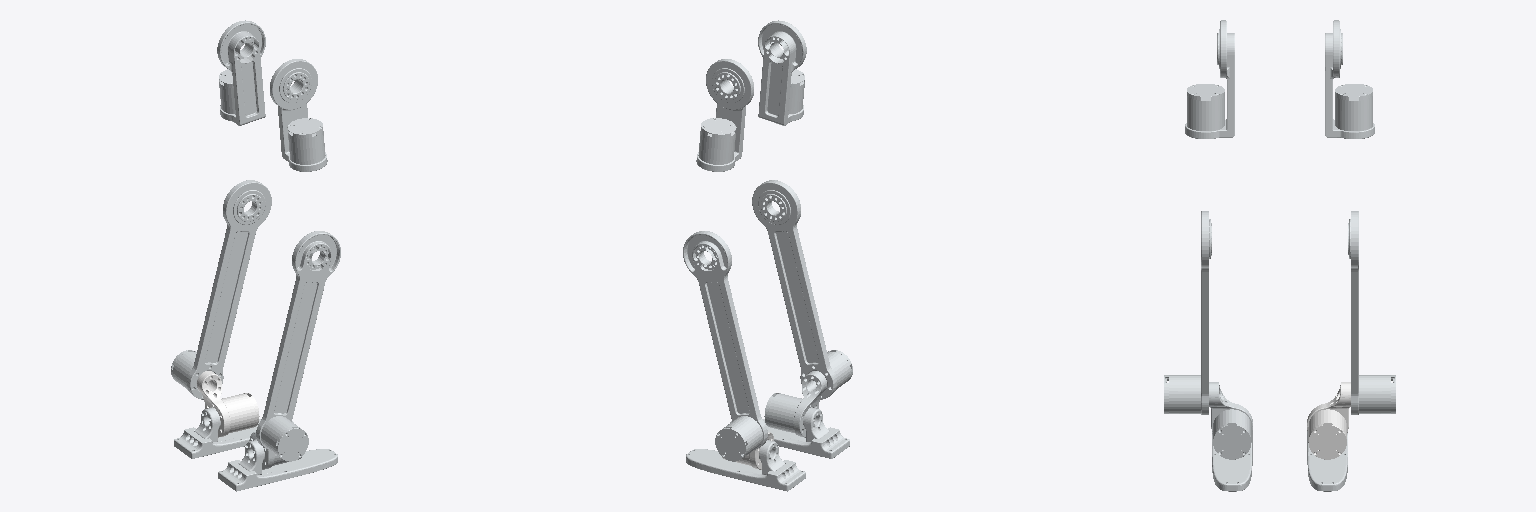
The robot description file, URDF, robot "wsybot":
<?xml version="1.0" encoding="utf-8"?>
<!-- This URDF was automatically created by SolidWorks to URDF Exporter! Originally created by [author] ([email redacted]) 
     Commit Version: 1.6.0-1-g15f4949  Build Version: 1.6.7594.29634
     For more information, please see http://wiki.ros.org/sw_urdf_exporter -->
<robot
  name="wsybot">
  <link
    name="base_link">
    <inertial>
      <origin
        xyz="-0.0274638278711442 -9.94036264242988E-05 -0.0589459174730025"
        rpy="0 0 0" />
      <mass
        value="1.28818547513624" />
      <inertia
        ixx="0.00386799187030259"
        ixy="-2.60061119319231E-06"
        ixz="-9.09638741753614E-07"
        iyy="0.00158550898527565"
        iyz="-2.1804564325619E-06"
        izz="0.00250633080610394" />
    </inertial>
    <visual>
      <origin
        xyz="0 0 0"
        rpy="0 0 0" />
      <geometry>
        <mesh
          filename="../meshes/base_link.STL" />
      </geometry>
      <material
        name="">
        <color
          rgba="0.792156862745098 0.819607843137255 0.933333333333333 1" />
      </material>
    </visual>
    <collision>
      <origin xyz="0.05 0 -0.06" rpy="0 0 0" />
			<geometry>
				<box size="0.8 0.8 0.3" />
			</geometry>
    </collision>
  </link>
  <link
    name="left_leg_roll_link">
    <inertial>
      <origin
        xyz="0.0479674225976101 0.0305307240632076 -0.0606602865809065"
        rpy="0 0 0" />
      <mass
        value="0.744380522190147" />
      <inertia
        ixx="0.00106465933839251"
        ixy="-6.51325843870392E-05"
        ixz="0.000283335084448181"
        iyy="0.001786823062112"
        iyz="7.58707771997702E-05"
        izz="0.00096075924662334" />
    </inertial>
    <visual>
      <origin
        xyz="0 0 0"
        rpy="0 0 0" />
      <geometry>
        <mesh
          filename="../meshes/left_leg_roll_link.STL" />
      </geometry>
      <material
        name="">
        <color
          rgba="0.898039215686275 0.917647058823529 0.929411764705882 1" />
      </material>
    </visual>
    <!-- <collision>
      <origin
        xyz="0 0 0"
        rpy="0 0 0" />
      <geometry>
        <mesh
          filename="package://wsybot/meshes/left_leg_roll_link.STL" />
      </geometry>
    </collision> -->
  </link>
  <joint
    name="left_leg_roll_joint"
    type="revolute">
    <origin
      xyz="-0.003 0.07 -0.059"
      rpy="0 0 0" />
    <parent
      link="base_link" />
    <child
      link="left_leg_roll_link" />
    <axis
      xyz="1 0 0" />
    <limit
      lower="-1.5"
      upper="1.5"
      effort="120"
      velocity="12" />
    <dynamics
      damping="0."
      friction="0." />
  </joint>
  <link
    name="left_leg_pitch_link">
    <inertial>
      <origin
        xyz="0.00597026095932652 0.00864693961818348 -0.0682405259480892"
        rpy="0 0 0" />
      <mass
        value="0.464542542128635" />
      <inertia
        ixx="0.00105655260807022"
        ixy="-6.63277600269421E-06"
        ixz="7.1495014127974E-05"
        iyy="0.00108636846314732"
        iyz="7.59403346028274E-05"
        izz="0.000245617813764983" />
    </inertial>
    <visual>
      <origin
        xyz="0 0 0"
        rpy="0 0 0" />
      <geometry>
        <mesh
          filename="../meshes/left_leg_pitch_link.STL" />
      </geometry>
      <material
        name="">
        <color
          rgba="0.898039215686275 0.917647058823529 0.929411764705882 1" />
      </material>
    </visual>
    <!-- <collision>
      <origin
        xyz="0 0 0"
        rpy="0 0 0" />
      <geometry>
        <mesh
          filename="package://wsybot/meshes/left_leg_pitch_link.STL" />
      </geometry>
    </collision> -->
  </link>
  <joint
    name="left_leg_pitch_joint"
    type="revolute">
    <origin
      xyz="0.062 0.0125 -0.075"
      rpy="0 0 0" />
    <parent
      link="left_leg_roll_link" />
    <child
      link="left_leg_pitch_link" />
    <axis
      xyz="0 -1 0" />
    <limit
      lower="-1.5"
      upper="1.5"
      effort="120"
      velocity="12" />
    <dynamics
      damping="0."
      friction="0." />
  </joint>
  <link
    name="left_leg_yaw_link">
    <inertial>
      <origin
        xyz="8.5909258730095E-05 -0.0351571294230111 -0.115116620634162"
        rpy="0 0 0" />
      <mass
        value="0.760934261790557" />
      <inertia
        ixx="0.00206054910052176"
        ixy="1.30238972471929E-06"
        ixz="1.11653915689551E-06"
        iyy="0.00246172534604495"
        iyz="-0.00026202643250772"
        izz="0.000769522371204611" />
    </inertial>
    <visual>
      <origin
        xyz="0 0 0"
        rpy="0 0 0" />
      <geometry>
        <mesh
          filename="../meshes/left_leg_yaw_link.STL" />
      </geometry>
      <material
        name="">
        <color
          rgba="0.898039215686275 0.917647058823529 0.929411764705882 1" />
      </material>
    </visual>
    <!-- <collision>
      <origin
        xyz="0 0 0"
        rpy="0 0 0" />
      <geometry>
        <mesh
          filename="package://wsybot/meshes/left_leg_yaw_link.STL" />
      </geometry>
    </collision> -->
  </link>
  <joint
    name="left_leg_yaw_joint"
    type="revolute">
    <origin
      xyz="0.012768 0.0275 -0.14594"
      rpy="0 -0.087266 0" />
    <parent
      link="left_leg_pitch_link" />
    <child
      link="left_leg_yaw_link" />
    <axis
      xyz="0 0 -1" />
    <limit
      lower="-1.5"
      upper="1.5"
      effort="27"
      velocity="12" />
    <dynamics
      damping="0."
      friction="0." />
  </joint>
  <link
    name="left_knee_link">
    <inertial>
      <origin
        xyz="-0.0442333052966614 0.0160786087147345 -0.165150211742099"
        rpy="0 0 0" />
      <mass
        value="0.572644624824018" />
      <inertia
        ixx="0.00484068257784219"
        ixy="9.47940619972512E-06"
        ixz="-0.00124206910815132"
        iyy="0.00531836188984156"
        iyz="3.53335812818619E-05"
        izz="0.000537984787365853" />
    </inertial>
    <visual>
      <origin
        xyz="0 0 0"
        rpy="0 0 0" />
      <geometry>
        <mesh
          filename="../meshes/left_knee_link.STL" />
      </geometry>
      <material
        name="">
        <color
          rgba="0.898039215686275 0.917647058823529 0.929411764705882 1" />
      </material>
    </visual>
    <collision>
      <origin xyz="0 0 -0.1" rpy="0 0.261799 0" />
			<geometry>
				<cylinder length="0.3" radius="0.08" />
			</geometry>
    </collision>
  </link>
  <joint
    name="left_knee_joint"
    type="revolute">
    <origin
      xyz="0 -0.0088 -0.1535"
      rpy="0 0.087266 0" />
    <parent
      link="left_leg_yaw_link" />
    <child
      link="left_knee_link" />
    <axis
      xyz="0 1 0" />
    <limit
      lower="-1.5"
      upper="1.5"
      effort="120"
      velocity="12" />
    <dynamics
      damping="0."
      friction="0." />
  </joint>
  <link
    name="left_ankle_pitch_link">
    <inertial>
      <origin
        xyz="0.0152052346398301 -0.0366197640951046 -0.0376363682701258"
        rpy="0 0 0" />
      <mass
        value="0.261694977450165" />
      <inertia
        ixx="0.000201755105377775"
        ixy="-1.23548313156654E-07"
        ixz="3.11681243424014E-07"
        iyy="0.000154056737827573"
        iyz="-4.40909391754159E-05"
        izz="0.000111256459038612" />
    </inertial>
    <visual>
      <origin
        xyz="0 0 0"
        rpy="0 0 0" />
      <geometry>
        <mesh
          filename="../meshes/left_ankle_pitch_link.STL" />
      </geometry>
      <material
        name="">
        <color
          rgba="1 1 1 1" />
      </material>
    </visual>
    <!-- <collision>
      <origin
        xyz="0 0 0"
        rpy="0 0 0" />
      <geometry>
        <mesh
          filename="package://wsybot/meshes/left_ankle_pitch_link.STL" />
      </geometry>
    </collision> -->
  </link>
  <joint
    name="left_ankle_pitch_joint"
    type="revolute">
    <origin
      xyz="-0.077646 0.01375 -0.28978"
      rpy="0 0 0" />
    <parent
      link="left_knee_link" />
    <child
      link="left_ankle_pitch_link" />
    <axis
      xyz="0 -1 0" />
    <limit
      lower="-1.5"
      upper="1.5"
      effort="27"
      velocity="12" />
    <dynamics
      damping="0."
      friction="0." />
  </joint>
  <link
    name="left_ankle_roll_link">
    <inertial>
      <origin
        xyz="0.0346033016094209 3.80259581946041E-06 -0.0314896941840948"
        rpy="0 0 0" />
      <mass
        value="0.407270792399681" />
      <inertia
        ixx="0.000143995974498123"
        ixy="-4.63019017054245E-08"
        ixz="9.40484527097653E-06"
        iyy="0.001051764684646"
        iyz="3.27067394953948E-09"
        izz="0.00114098662670853" />
    </inertial>
    <visual>
      <origin
        xyz="0 0 0"
        rpy="0 0 0" />
      <geometry>
        <mesh
          filename="../meshes/left_ankle_roll_link.STL" />
      </geometry>
      <material
        name="">
        <color
          rgba="0.898039215686275 0.917647058823529 0.929411764705882 1" />
      </material>
    </visual>
    <collision>
      <origin
        xyz="0 0 0"
        rpy="0 0 0" />
      <geometry>
        <mesh
          filename="../meshes/left_ankle_roll_link.STL" />
      </geometry>
    </collision>
  </link>
  <joint
    name="left_ankle_roll_joint"
    type="revolute">
    <origin
      xyz="-0.021 -0.04425 -0.05"
      rpy="0 0 0" />
    <parent
      link="left_ankle_pitch_link" />
    <child
      link="left_ankle_roll_link" />
    <axis
      xyz="-1 0 0" />
    <limit
      lower="-1.5"
      upper="1.5"
      effort="27"
      velocity="12" />
    <dynamics
      damping="0."
      friction="0." />
  </joint>
  <link
    name="right_leg_roll_link">
    <inertial>
      <origin
        xyz="0.0481394428939257 -0.0305307249475035 -0.0606602580050626"
        rpy="0 0 0" />
      <mass
        value="0.744380877656152" />
      <inertia
        ixx="0.00106465923621307"
        ixy="6.77331622423403E-05"
        ixz="0.000285515620940964"
        iyy="0.00178682287733251"
        iyz="-7.58707323072346E-05"
        izz="0.0009607590864553" />
    </inertial>
    <visual>
      <origin
        xyz="0 0 0"
        rpy="0 0 0" />
      <geometry>
        <mesh
          filename="../meshes/right_leg_roll_link.STL" />
      </geometry>
      <material
        name="">
        <color
          rgba="0.792156862745098 0.819607843137255 0.933333333333333 1" />
      </material>
    </visual>
    <!-- <collision>
      <origin
        xyz="0 0 0"
        rpy="0 0 0" />
      <geometry>
        <mesh
          filename="package://wsybot/meshes/right_leg_roll_link.STL" />
      </geometry>
    </collision> -->
  </link>
  <joint
    name="right_leg_roll_joint"
    type="revolute">
    <origin
      xyz="-0.003 -0.07 -0.059"
      rpy="0 0 0" />
    <parent
      link="base_link" />
    <child
      link="right_leg_roll_link" />
    <axis
      xyz="1 0 0" />
    <limit
      lower="-1.5"
      upper="1.5"
      effort="120"
      velocity="12" />
    <dynamics
      damping="0."
      friction="0." />
  </joint>
  <link
    name="right_leg_pitch_link">
    <inertial>
      <origin
        xyz="0.00597028442427775 -0.00864693987677517 -0.0682405265629243"
        rpy="0 0 0" />
      <mass
        value="0.464542521049574" />
      <inertia
        ixx="0.00105655262273945"
        ixy="6.65488296205294E-06"
        ixz="7.14946663703727E-05"
        iyy="0.0010863684016776"
        iyz="-7.59383995880313E-05"
        izz="0.000245617745589089" />
    </inertial>
    <visual>
      <origin
        xyz="0 0 0"
        rpy="0 0 0" />
      <geometry>
        <mesh
          filename="../meshes/right_leg_pitch_link.STL" />
      </geometry>
      <material
        name="">
        <color
          rgba="0.898039215686275 0.917647058823529 0.929411764705882 1" />
      </material>
    </visual>
    <!-- <collision>
      <origin
        xyz="0 0 0"
        rpy="0 0 0" />
      <geometry>
        <mesh
          filename="package://wsybot/meshes/right_leg_pitch_link.STL" />
      </geometry>
    </collision> -->
  </link>
  <joint
    name="right_leg_pitch_joint"
    type="revolute">
    <origin
      xyz="0.062 -0.0125 -0.075"
      rpy="0 0 0" />
    <parent
      link="right_leg_roll_link" />
    <child
      link="right_leg_pitch_link" />
    <axis
      xyz="0 1 0" />
    <limit
      lower="-1.5"
      upper="1.5"
      effort="120"
      velocity="12" />
    <dynamics
      damping="0."
      friction="0." />
  </joint>
  <link
    name="right_leg_yaw_link">
    <inertial>
      <origin
        xyz="-8.50762495181873E-05 0.0351569319384139 -0.115117611523388"
        rpy="0 0 0" />
      <mass
        value="0.76095040365216" />
      <inertia
        ixx="0.00206056108190587"
        ixy="1.30178260531051E-06"
        ixz="-1.10976816723711E-06"
        iyy="0.00246176573486259"
        iyz="0.000262028241156259"
        izz="0.000769552652078499" />
    </inertial>
    <visual>
      <origin
        xyz="0 0 0"
        rpy="0 0 0" />
      <geometry>
        <mesh
          filename="../meshes/right_leg_yaw_link.STL" />
      </geometry>
      <material
        name="">
        <color
          rgba="0.898039215686275 0.917647058823529 0.929411764705882 1" />
      </material>
    </visual>
    <!-- <collision>
      <origin
        xyz="0 0 0"
        rpy="0 0 0" />
      <geometry>
        <mesh
          filename="package://wsybot/meshes/right_leg_yaw_link.STL" />
      </geometry>
    </collision> -->
  </link>
  <joint
    name="right_leg_yaw_joint"
    type="revolute">
    <origin
      xyz="0.012768 -0.0275 -0.14594"
      rpy="0 -0.087266 0" />
    <parent
      link="right_leg_pitch_link" />
    <child
      link="right_leg_yaw_link" />
    <axis
      xyz="0 0 -1" />
    <limit
      lower="-1.5"
      upper="1.5"
      effort="27"
      velocity="12" />
    <dynamics
      damping="0."
      friction="0." />
  </joint>
  <link
    name="right_knee_link">
    <inertial>
      <origin
        xyz="-0.0442333035475847 -0.0160786087152636 -0.165150205214108"
        rpy="0 0 0" />
      <mass
        value="0.572644624824022" />
      <inertia
        ixx="0.00484067153113813"
        ixy="-9.47940718963295E-06"
        ixz="-0.00124208824160409"
        iyy="0.00531836188984141"
        iyz="-3.53335849766127E-05"
        izz="0.000537995834070165" />
    </inertial>
    <visual>
      <origin
        xyz="0 0 0"
        rpy="0 0 0" />
      <geometry>
        <mesh
          filename="../meshes/right_knee_link.STL" />
      </geometry>
      <material
        name="">
        <color
          rgba="0.898039215686275 0.917647058823529 0.929411764705882 1" />
      </material>
    </visual>
    <collision>
      <origin xyz="0 0 -0.1" rpy="0 0.261799 0" />
			<geometry>
				<cylinder length="0.3" radius="0.08" />
			</geometry>
    </collision>
  </link>
  <joint
    name="right_knee_joint"
    type="revolute">
    <origin
      xyz="0 0.0088 -0.1535"
      rpy="0 0.087266 0" />
    <parent
      link="right_leg_yaw_link" />
    <child
      link="right_knee_link" />
    <axis
      xyz="0 -1 0" />
    <limit
      lower="-1.5"
      upper="1.5"
      effort="120"
      velocity="12" />
    <dynamics
      damping="0."
      friction="0." />
  </joint>
  <link
    name="right_ankle_pitch_link">
    <inertial>
      <origin
        xyz="0.0152052435162388 0.0366197289989762 -0.0376364066801811"
        rpy="0 0 0" />
      <mass
        value="0.261694892992839" />
      <inertia
        ixx="0.000201754946583785"
        ixy="1.23609581429624E-07"
        ixz="3.11702167281166E-07"
        iyy="0.000154056937664453"
        iyz="4.40686814395704E-05"
        izz="0.000111256096532805" />
    </inertial>
    <visual>
      <origin
        xyz="0 0 0"
        rpy="0 0 0" />
      <geometry>
        <mesh
          filename="../meshes/right_ankle_pitch_link.STL" />
      </geometry>
      <material
        name="">
        <color
          rgba="0.898039215686275 0.917647058823529 0.929411764705882 1" />
      </material>
    </visual>
    <!-- <collision>
      <origin
        xyz="0 0 0"
        rpy="0 0 0" />
      <geometry>
        <mesh
          filename="package://wsybot/meshes/right_ankle_pitch_link.STL" />
      </geometry>
    </collision> -->
  </link>
  <joint
    name="right_ankle_pitch_joint"
    type="revolute">
    <origin
      xyz="-0.077646 -0.01375 -0.28978"
      rpy="0 0 0" />
    <parent
      link="right_knee_link" />
    <child
      link="right_ankle_pitch_link" />
    <axis
      xyz="0 1 0" />
    <limit
      lower="-1.5"
      upper="1.5"
      effort="27"
      velocity="12" />
    <dynamics
      damping="0."
      friction="0." />
  </joint>
  <link
    name="right_ankle_roll_link">
    <inertial>
      <origin
        xyz="0.0346033498437609 3.79754498590346E-06 -0.0314896995066078"
        rpy="0 0 0" />
      <mass
        value="0.407271070692203" />
      <inertia
        ixx="0.000143996016241726"
        ixy="-4.61446124864305E-08"
        ixz="9.40489165771257E-06"
        iyy="0.0010517666514146"
        iyz="3.26213937094104E-09"
        izz="0.00114098862947045" />
    </inertial>
    <visual>
      <origin
        xyz="0 0 0"
        rpy="0 0 0" />
      <geometry>
        <mesh
          filename="../meshes/right_ankle_roll_link.STL" />
      </geometry>
      <material
        name="">
        <color
          rgba="0.898039215686275 0.917647058823529 0.929411764705882 1" />
      </material>
    </visual>
    <collision>
      <origin
        xyz="0 0 0"
        rpy="0 0 0" />
      <geometry>
        <mesh
          filename="../meshes/right_ankle_roll_link.STL" />
      </geometry>
    </collision>
  </link>
  <joint
    name="right_ankle_roll_joint"
    type="revolute">
    <origin
      xyz="-0.021 0.04425 -0.05"
      rpy="0 0 0" />
    <parent
      link="right_ankle_pitch_link" />
    <child
      link="right_ankle_roll_link" />
    <axis
      xyz="-1 0 0" />
    <limit
      lower="-1.5"
      upper="1.5"
      effort="27"
      velocity="12" />
    <dynamics
      damping="0."
      friction="0." />
  </joint>
</robot>

--- Facts derived from the render (not from the file) ---
Views: 3 orthographic renders of the robot side by side, from view 1: azimuth 30°, elevation 25°; view 2: azimuth 150°, elevation 25°; view 3: azimuth 270°, elevation 25°.
Model wsybot with 13 links and 12 joints (12 revolute), rooted at base_link, posed all joints at 0.
Visible links, largest first — view 1: right_knee_link, left_knee_link, right_leg_pitch_link, left_leg_pitch_link, right_ankle_roll_link, left_ankle_pitch_link, left_ankle_roll_link; view 2: left_knee_link, right_knee_link, left_leg_pitch_link, right_leg_pitch_link, left_ankle_roll_link, right_ankle_pitch_link, right_ankle_roll_link; view 3: left_leg_pitch_link, right_leg_pitch_link, right_knee_link, left_knee_link, left_ankle_pitch_link, right_ankle_pitch_link, right_ankle_roll_link, left_ankle_roll_link.
Link boxes in pixels (left/top/right/bottom): right_knee_link: left=256, top=231, right=340, bottom=461; left_knee_link: left=171, top=180, right=271, bottom=399; right_leg_pitch_link: left=270, top=59, right=327, bottom=171; left_leg_pitch_link: left=217, top=20, right=265, bottom=125; right_ankle_roll_link: left=218, top=440, right=337, bottom=491; left_ankle_pitch_link: left=197, top=371, right=259, bottom=437; left_ankle_roll_link: left=174, top=407, right=293, bottom=458; left_knee_link: left=683, top=231, right=767, bottom=461; right_knee_link: left=752, top=180, right=852, bottom=399; left_leg_pitch_link: left=696, top=59, right=753, bottom=171; right_leg_pitch_link: left=758, top=20, right=806, bottom=125; left_ankle_roll_link: left=686, top=440, right=805, bottom=491; right_ankle_pitch_link: left=764, top=371, right=826, bottom=437; right_ankle_roll_link: left=730, top=407, right=849, bottom=458; left_leg_pitch_link: left=1325, top=20, right=1374, bottom=138; right_leg_pitch_link: left=1185, top=20, right=1234, bottom=138; right_knee_link: left=1164, top=211, right=1211, bottom=414; left_knee_link: left=1348, top=211, right=1395, bottom=414; left_ankle_pitch_link: left=1307, top=382, right=1350, bottom=459; right_ankle_pitch_link: left=1209, top=382, right=1252, bottom=459; right_ankle_roll_link: left=1212, top=431, right=1252, bottom=491; left_ankle_roll_link: left=1307, top=431, right=1347, bottom=491.
Size in the robot's own frame: 0.2 by 0.3429 by 0.7271 metres.
Meshes: 13 distinct files referenced, 8 mesh visuals loaded (8 binary STL); not drawn: 5 (reference not matched to a file when rendering).
